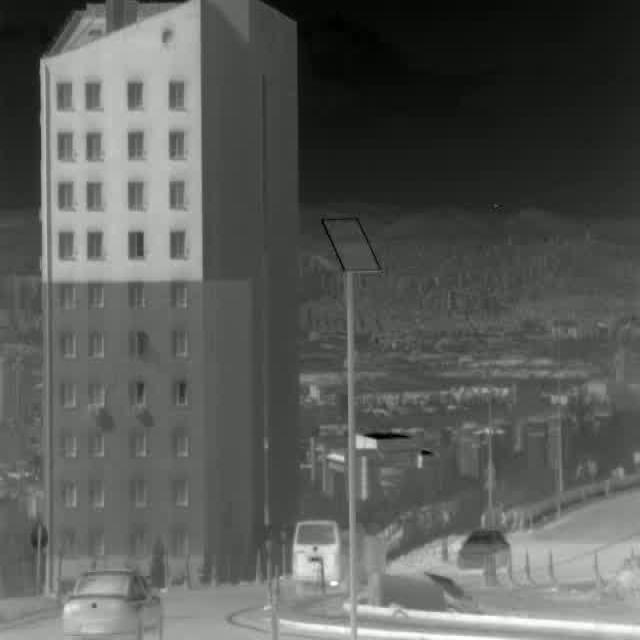Car: (61, 566, 163, 640), (292, 518, 370, 591), (453, 525, 511, 570)
